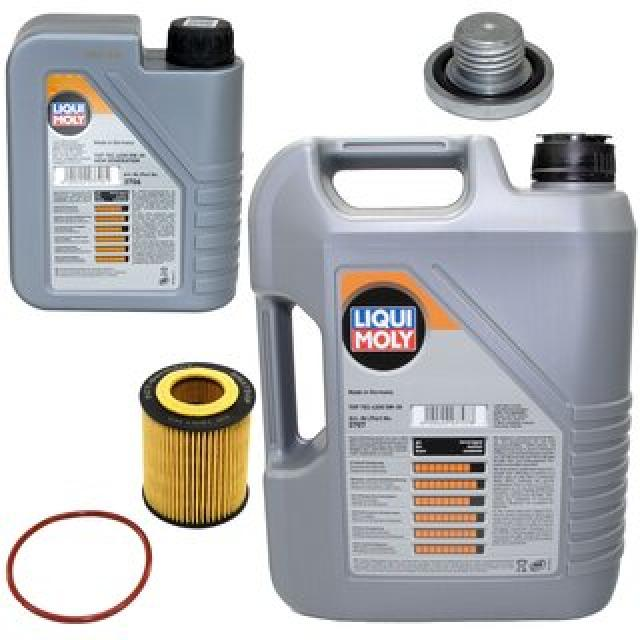motor_oil: (250, 128, 640, 628), (0, 7, 250, 316)
oil_filter: (137, 355, 255, 531)
